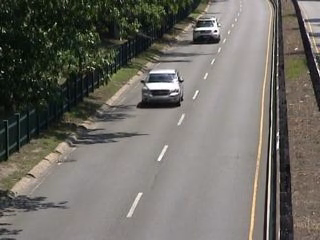car: (136, 66, 186, 111), (191, 14, 222, 44)
